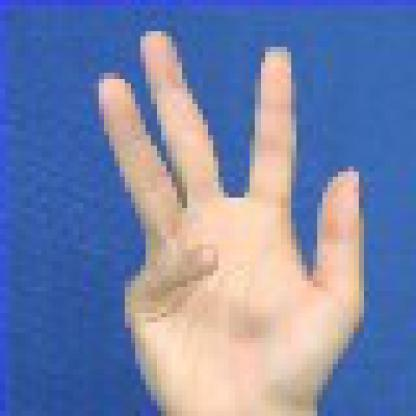nine: (37, 5, 396, 411)
